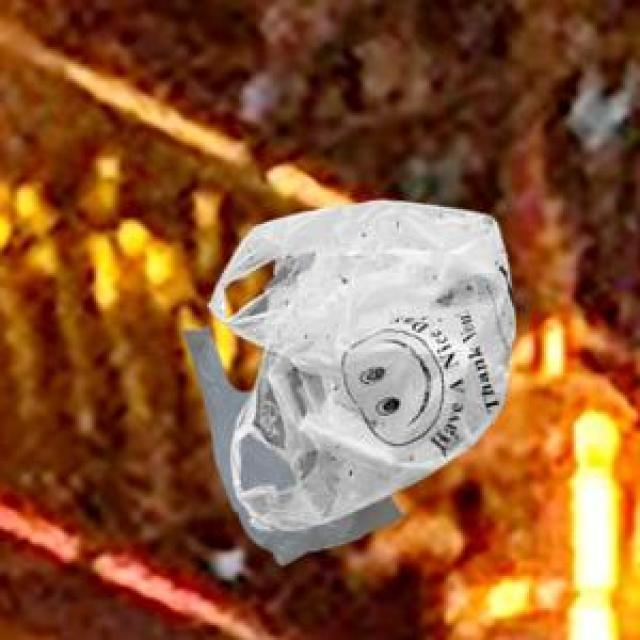waste: (185, 201, 515, 564)
